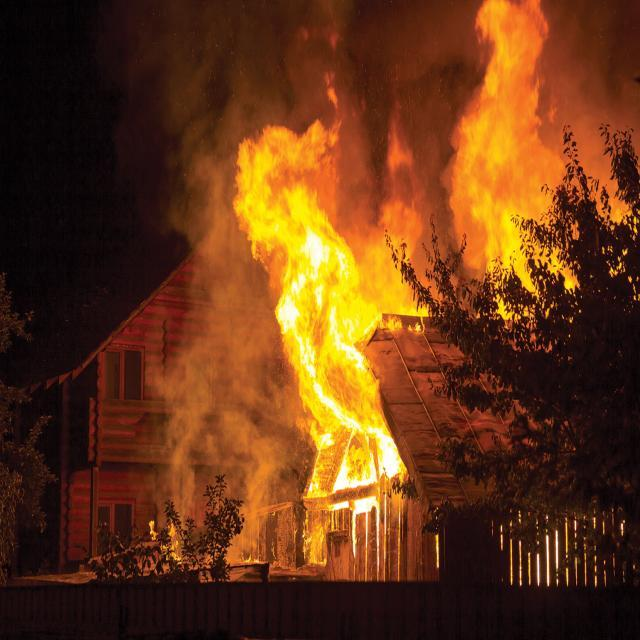Fire: (236, 132, 386, 510), (446, 0, 571, 278)
Smoke: (111, 2, 465, 324)
